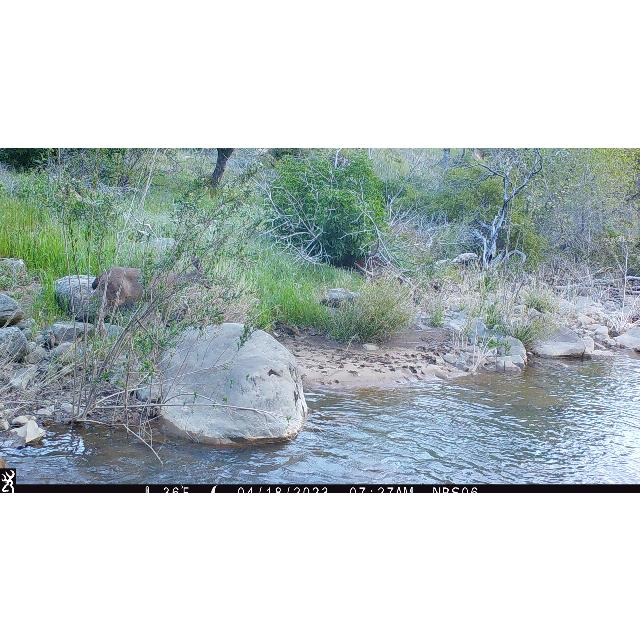animals: (91, 254, 213, 330)
